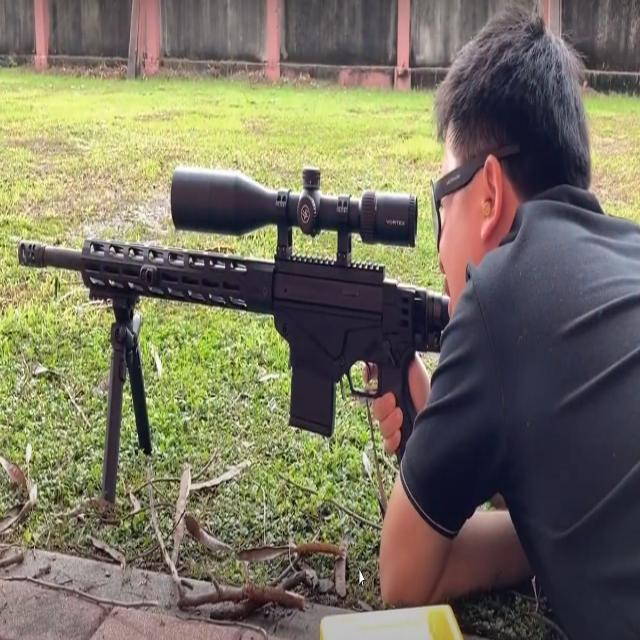rifle: (12, 154, 456, 496)
